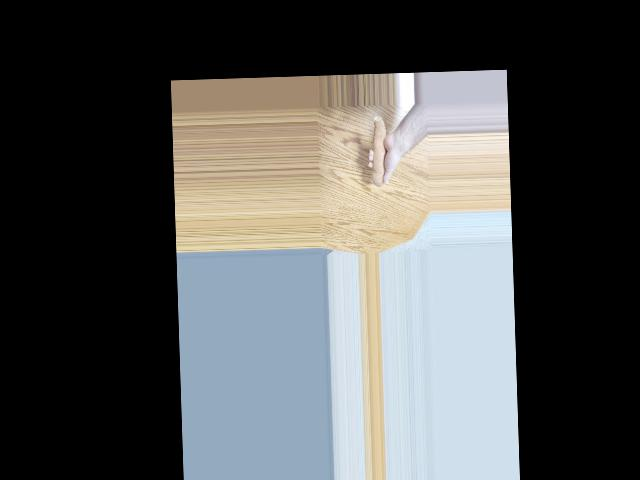sweet_potato: (367, 114, 392, 192)
